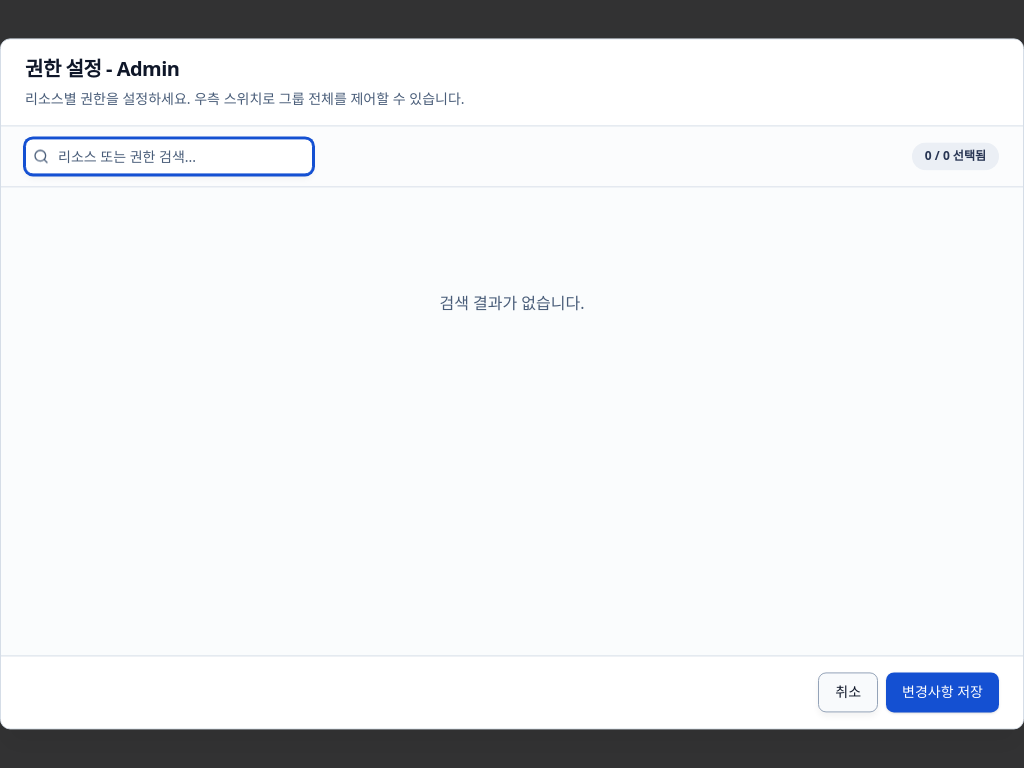
it: PermissionBoard Search Component › shows clear button when text is typed
This screenshot has width=1024, height=768.
// Type something
Type "users" into the field with placeholder "리소스 또는 권한 검색...".
click(169, 156); type("users")  # box [25,138,313,174]
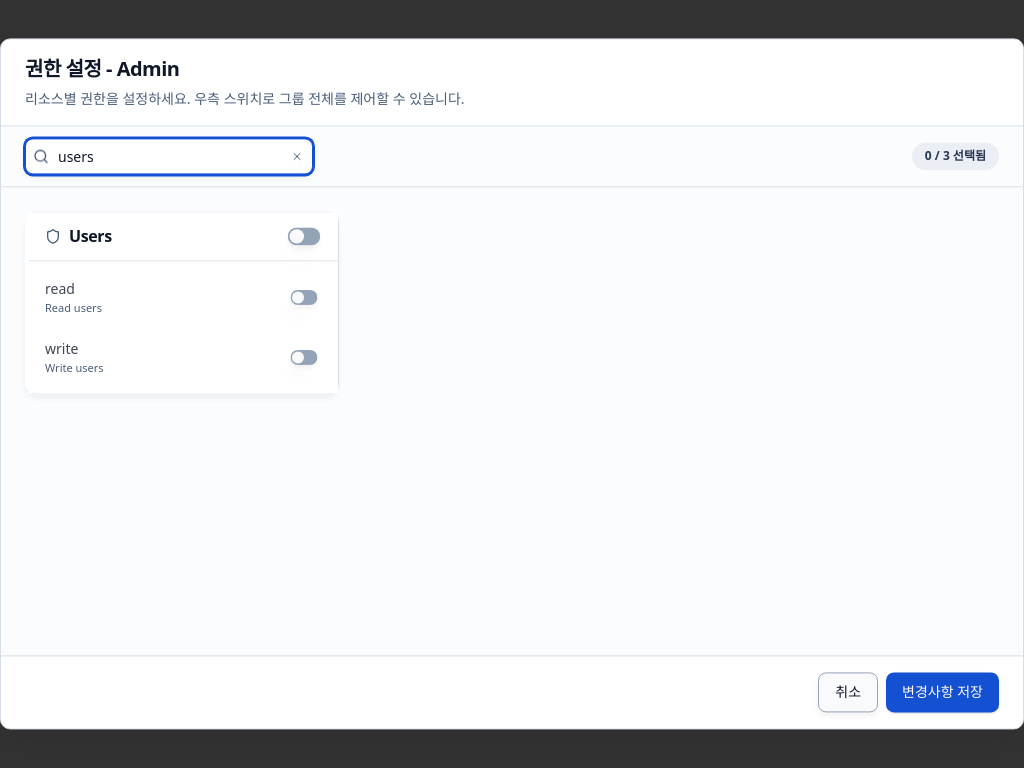
Check: the button named "검색어 초기화" is shown, box [289,148,305,164]
